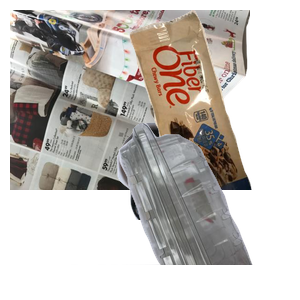glass: (115, 120, 300, 300)
paper: (10, 10, 250, 190)
plastic: (71, 120, 300, 300)
trash: (127, 10, 300, 190)
